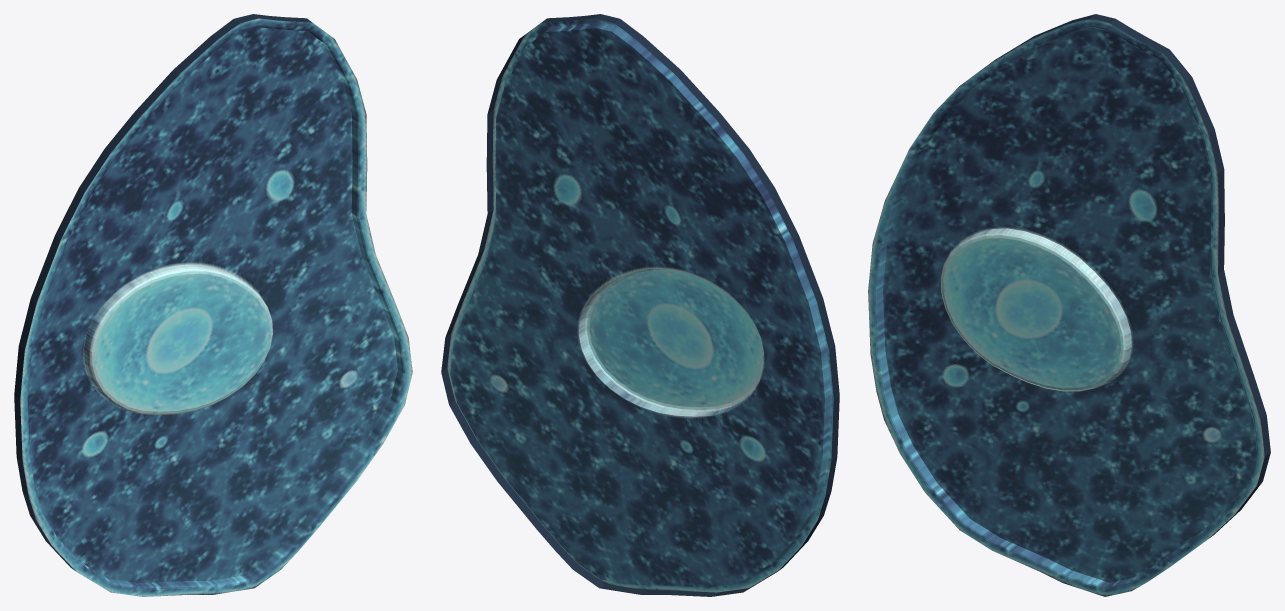
Rendered from einzeller.gltf.
3 renders of one model, left to right at view 1: azimuth 30°, elevation 25°; view 2: azimuth 150°, elevation 25°; view 3: azimuth 330°, elevation 25°, orthographic.
Parts seen in each view (by area): view 1: Plane; view 2: Plane; view 3: Plane.
Part boxes in pixels (x1,y1,x2,y2): Plane: (14, 14, 412, 596); Plane: (441, 14, 839, 596); Plane: (868, 14, 1270, 596).
Size of the model in its own units: 0.5156 by 0.7139 by 0.0137.
1 material, 1 textured.
